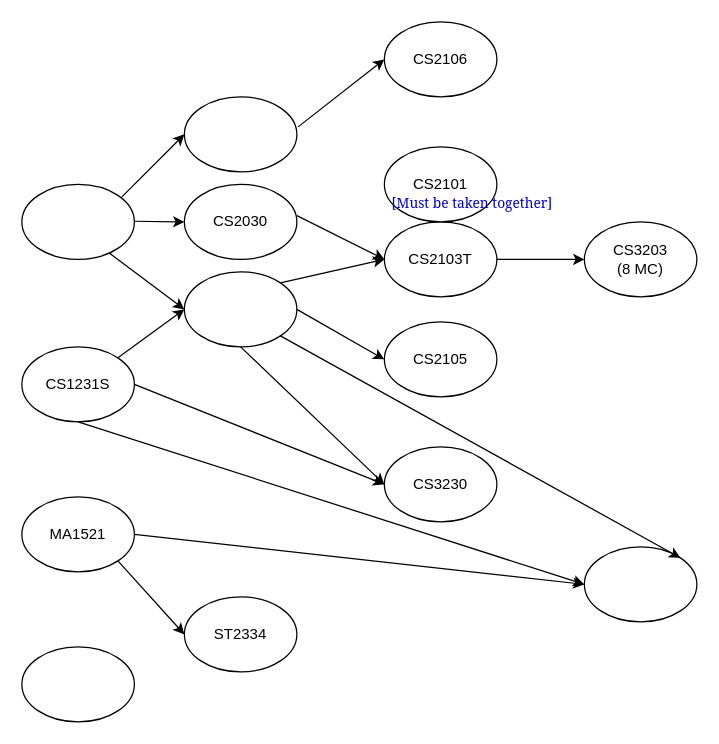
Some shapes in this 719 by 744 pixel diagram are drawn without their labels. The shapes that lost their labels are listed below. From the top down, each one's centre as x and y in pixels, then its label:
the point at 240,134: CS2100
the point at 77,221: CS1101S
the point at 240,309: CS2040S
the point at 640,584: CS2109S
the point at 77,684: MA2001
